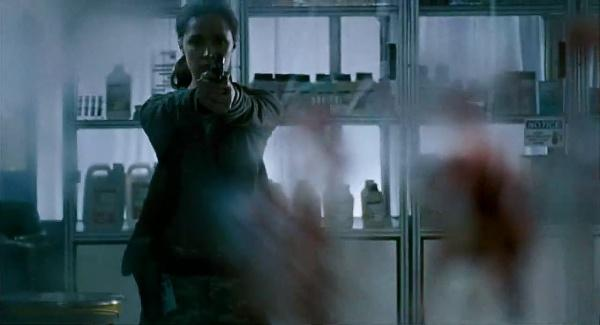Gun: (209, 56, 227, 81)
